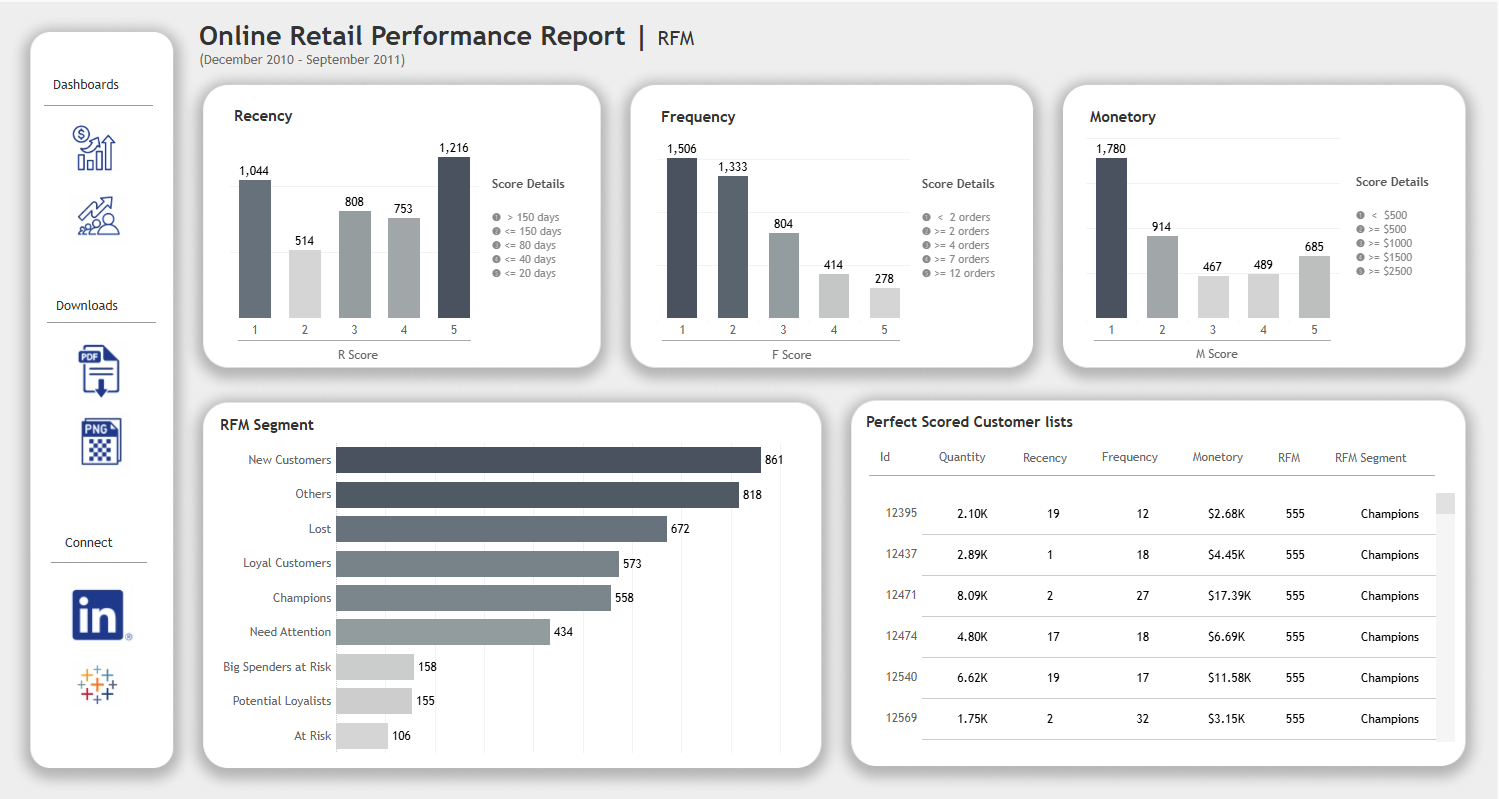

The page's visual inventory and layout, read from the dashboard file:
{"tool":"tableau","page":{"name":"RFM","canvas":[1000,1000],"units":"permille","ordinal":1},"visuals":[{"type":"image","param":"Image/Frame 1 (3).png","box":[0,0,1000,1000]},{"type":"text","box":[134,11.2,602,83.8]},{"type":"text","box":[36.7,85,68.7,37.5]},{"type":"worksheet","title":"R_Score","mark":"Automatic","rows":["customer_id"],"cols":["r_score"],"box":[154.7,122.5,166,297.5]},{"type":"worksheet","title":"F_Score","mark":"Automatic","rows":["customer_id"],"cols":["f_score"],"box":[439.3,123.8,168.7,296.2]},{"type":"worksheet","title":"M_Score","mark":"Automatic","rows":["customer_id"],"cols":["m_score"],"box":[725.3,123.8,169.3,296.2]},{"type":"blank","box":[30.7,128.8,72.7,1.2]},{"type":"dashboard-object","box":[30.7,151.2,66.7,65]},{"type":"text","box":[905.3,206.2,66.7,148.8]},{"type":"text","box":[329.3,208.8,66.7,148.8]},{"type":"text","box":[616,208.8,68.7,148.8]},{"type":"dashboard-object","box":[34.7,240,64.7,65]},{"type":"text","box":[38.7,361.2,66.7,37.5]},{"type":"blank","box":[32.7,400,72.7,1.2]},{"type":"blank","box":[158,402.5,159.3,41.2]},{"type":"blank","box":[440.7,402.5,162.7,41.2]},{"type":"blank","box":[728.7,402.5,162,41.2]},{"type":"text","box":[779.3,421.2,66.7,37.5]},{"type":"text","box":[206.7,422.5,66.7,37.5]},{"type":"text","box":[496,422.5,66.7,37.5]},{"type":"dashboard-object","box":[35.3,423.8,66.7,76.2]},{"type":"text","box":[578.7,505,170.7,37.5]},{"type":"worksheet","title":"RFM Segment","mark":"Automatic","rows":["rfm_segment"],"cols":["customer_id"],"box":[145.3,508.8,395.3,430]},{"type":"dashboard-object","box":[39.3,512.5,60.7,75]},{"type":"text","box":[588,550,22.7,37.5]},{"type":"text","box":[627.3,550,48.7,37.5]},{"type":"text","box":[736,550,54.7,37.5]},{"type":"text","box":[796.7,550,49.3,37.5]},{"type":"text","box":[683.3,551.2,43.3,37.5]},{"type":"text","box":[853.3,551.2,27.3,37.5]},{"type":"text","box":[891.3,551.2,70,37.5]},{"type":"blank","box":[580.7,591.2,377.3,1.2]},{"type":"worksheet","title":"Perfect Scored Customer lists","mark":"Circle","rows":["customer_id"],"cols":["Calculation_0900549563179023","Calculation_0900549563179023","Calculation_0900549563179023","Calculation_0900549563179023","Calculation_0900549563179023","Calculation_0900549563179023"],"box":[581.3,613.8,390,311.2]},{"type":"text","box":[44.7,657.5,66.7,37.5]},{"type":"blank","box":[35.3,700,64,1.2]},{"type":"image","param":"Image/Screenshot 2026-03-17 221749.png","box":[44.7,727.5,46,81.2]},{"type":"image","param":"Image/Screenshot 2026-03-17 221802.png","box":[44.7,822.5,42.7,60]}]}

Visuals, with their boxes on the dashboard's canvas, which has no fixed pixel size, in thousandths of its width and height (x1, y1, x2, y2). These are canvas units, not pixel positions in the 1499x799 screenshot, which may show the page scaled, cropped or inside an application window:
image: (0,0,1000,1000)
text: (134,11,736,95)
text: (37,85,105,122)
"R_Score" worksheet: (155,122,321,420)
"F_Score" worksheet: (439,124,608,420)
"M_Score" worksheet: (725,124,895,420)
blank: (31,129,103,130)
dashboard-object: (31,151,97,216)
text: (905,206,972,355)
text: (329,209,396,358)
text: (616,209,685,358)
dashboard-object: (35,240,99,305)
text: (39,361,105,399)
blank: (33,400,105,401)
blank: (158,402,317,444)
blank: (441,402,603,444)
blank: (729,402,891,444)
text: (779,421,846,459)
text: (207,422,273,460)
text: (496,422,563,460)
dashboard-object: (35,424,102,500)
text: (579,505,749,542)
"RFM Segment" worksheet: (145,509,541,939)
dashboard-object: (39,512,100,588)
text: (588,550,611,588)
text: (627,550,676,588)
text: (736,550,791,588)
text: (797,550,846,588)
text: (683,551,727,589)
text: (853,551,881,589)
text: (891,551,961,589)
blank: (581,591,958,592)
"Perfect Scored Customer lists" worksheet (Circle marks): (581,614,971,925)
text: (45,658,111,695)
blank: (35,700,99,701)
image: (45,728,91,809)
image: (45,822,87,882)
